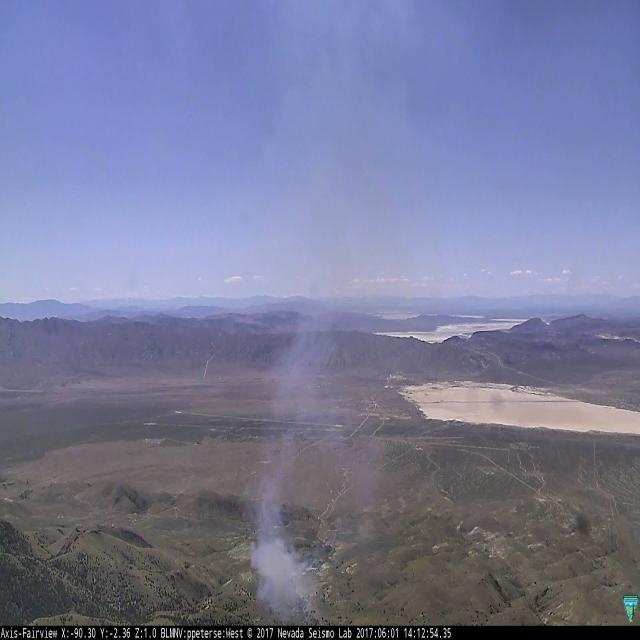smoke: (246, 481, 315, 619)
